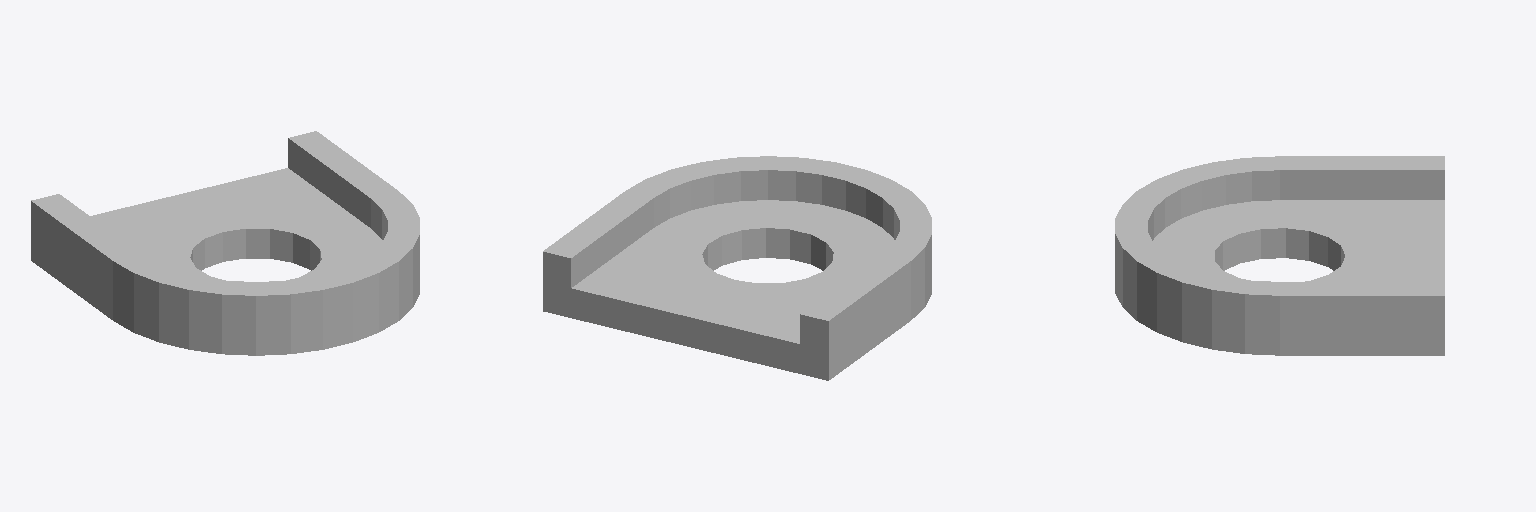
File: EndBlock.obj
The picture shows the model from 3 angles: view 1: azimuth 30°, elevation 25°; view 2: azimuth 150°, elevation 25°; view 3: azimuth 270°, elevation 25°; orthographic projection.
Visible parts, largest first — view 1: EndBlock_-_col; view 2: EndBlock_-_col; view 3: EndBlock_-_col.
Boxes of the visible parts, <box> form: EndBlock_-_col: <box>31,131,419,355</box>; EndBlock_-_col: <box>543,156,931,380</box>; EndBlock_-_col: <box>1115,156,1444,355</box>.
Bounding box in the file's own units: 2 × 0.4 × 1.99.